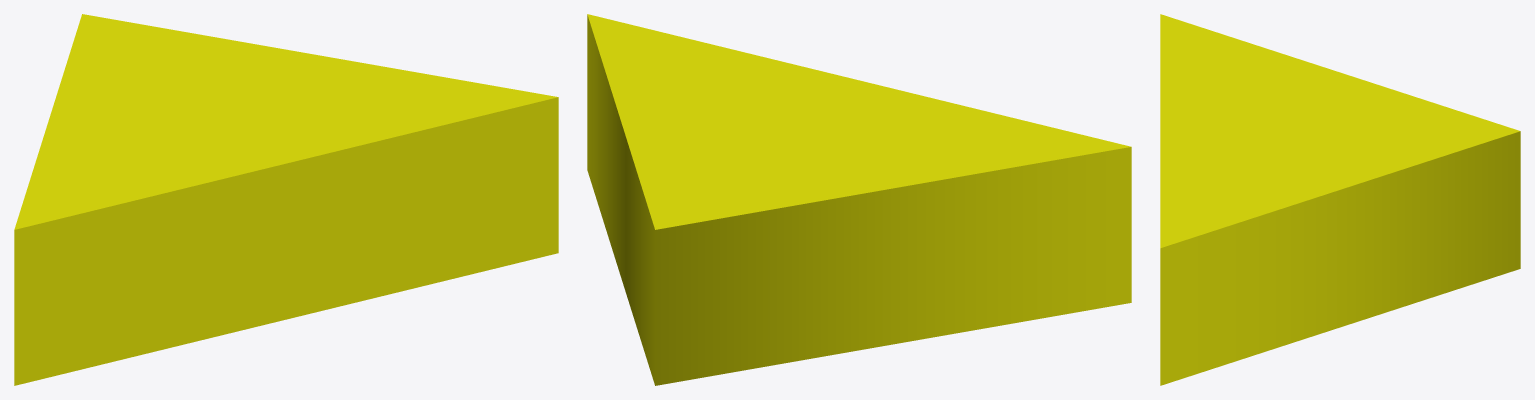
The model's file is arrow.fbx.
The picture shows the model from 3 angles, left to right: view 1: azimuth 30°, elevation 25°; view 2: azimuth 150°, elevation 25°; view 3: azimuth 270°, elevation 25°; orthographic projection. The views are drawn at different scales.
Visible parts, largest first — view 1: pCube1; view 2: pCube1; view 3: pCube1.
Boxes of the visible parts, bbox=[...] form: pCube1: bbox=[14, 14, 558, 385]; pCube1: bbox=[587, 14, 1131, 385]; pCube1: bbox=[1160, 14, 1520, 385].
Bounding box in the file's own units: 1 × 0.2739 × 0.6501.
